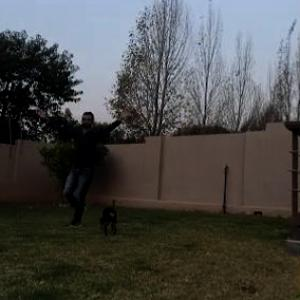takeoff: (41, 108, 134, 224)
